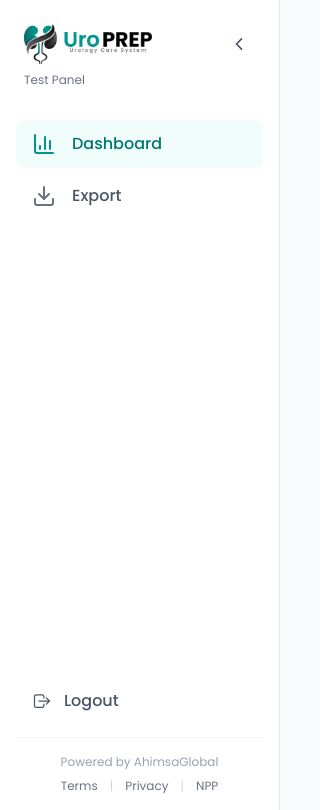
Test: AdminSidebarLayout › hides navigation item text when collapsed
What coordinates should you click on to do the following:
click the button named "Collapse sidebar"
I would click on:
 (239, 44)
Its box is [223,28,255,60].
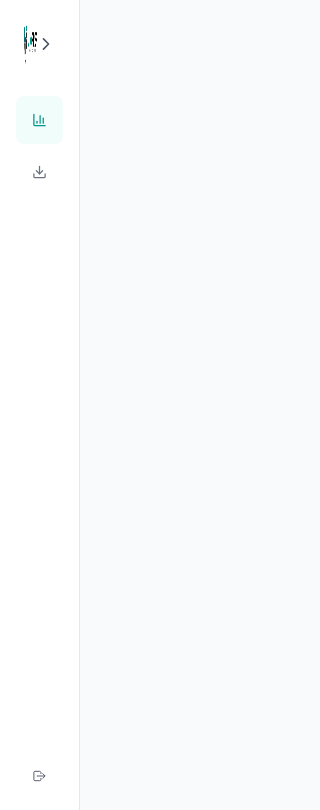
Expected: the text "Dashboard" is gone
